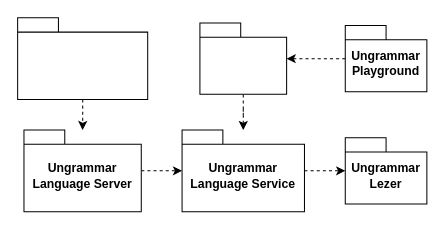
The diagram is 446 pixels wide and 230 high, and some of its shapes have lost their labels. Each missing label, with the centre of its shape:
"Ungrammar Language Features (VS Code Ext.)" goes at [82,58].
"Ungrammar Monaco" goes at [243,58].
